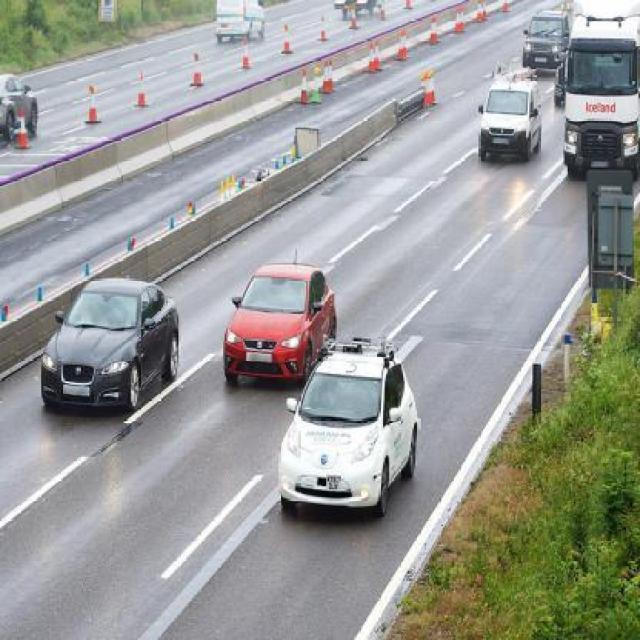vehicle: (278, 362, 432, 530), (31, 272, 186, 417), (218, 268, 328, 383), (474, 81, 554, 180), (517, 3, 573, 79)
